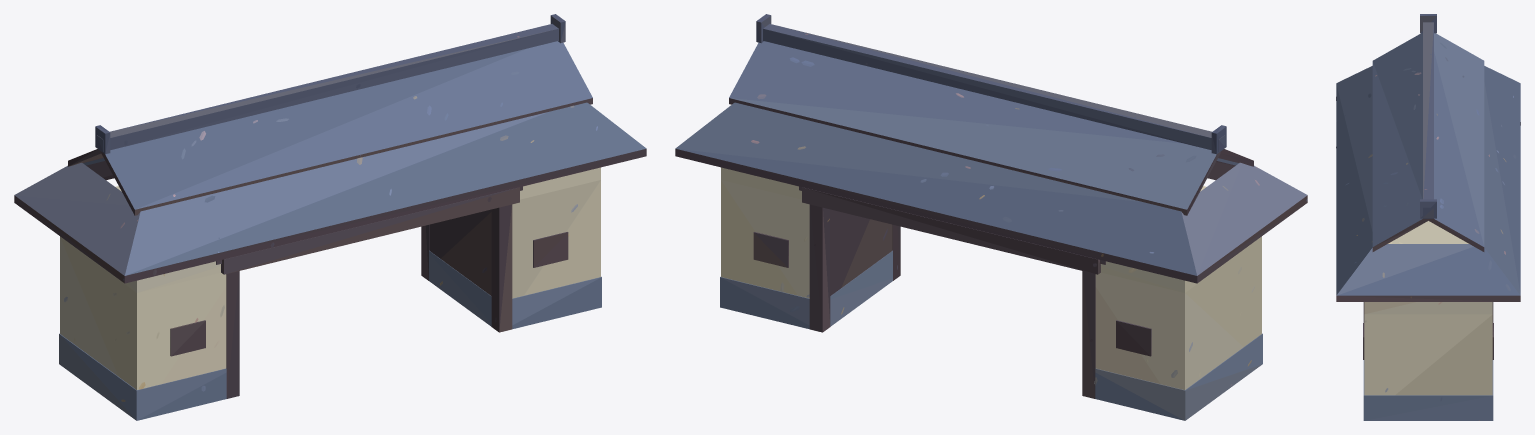
The model's file is HK_GateHouse_Nagaya.lod.glb.
3 renders of one model, left to right at view 1: azimuth 30°, elevation 25°; view 2: azimuth 150°, elevation 25°; view 3: azimuth 270°, elevation 25°, orthographic. The views are drawn at different scales.
Parts seen in each view (by area): view 1: HK_GateHouse_Nagaya; view 2: HK_GateHouse_Nagaya; view 3: HK_GateHouse_Nagaya.
Boxes of the visible parts, bbox=[...] form: HK_GateHouse_Nagaya: bbox=[14, 14, 646, 420]; HK_GateHouse_Nagaya: bbox=[675, 14, 1307, 420]; HK_GateHouse_Nagaya: bbox=[1336, 14, 1520, 420].
Bounding box in the file's own units: 18.01 × 8.63 × 6.61.
